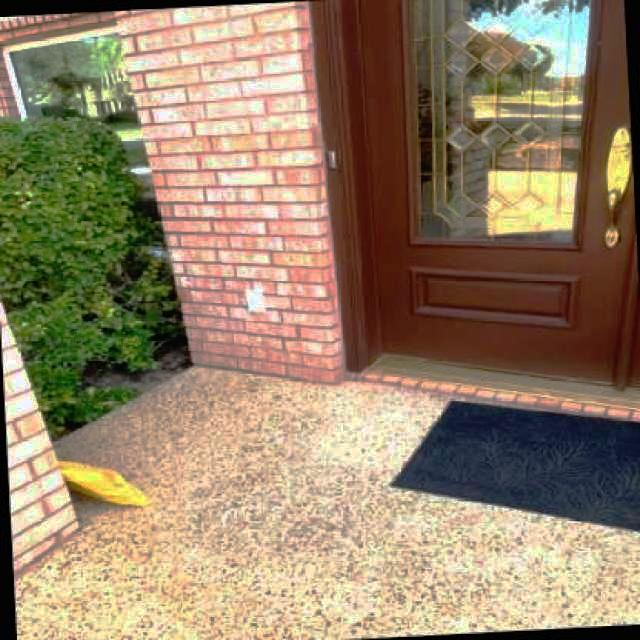Box: (57, 452, 151, 510)
